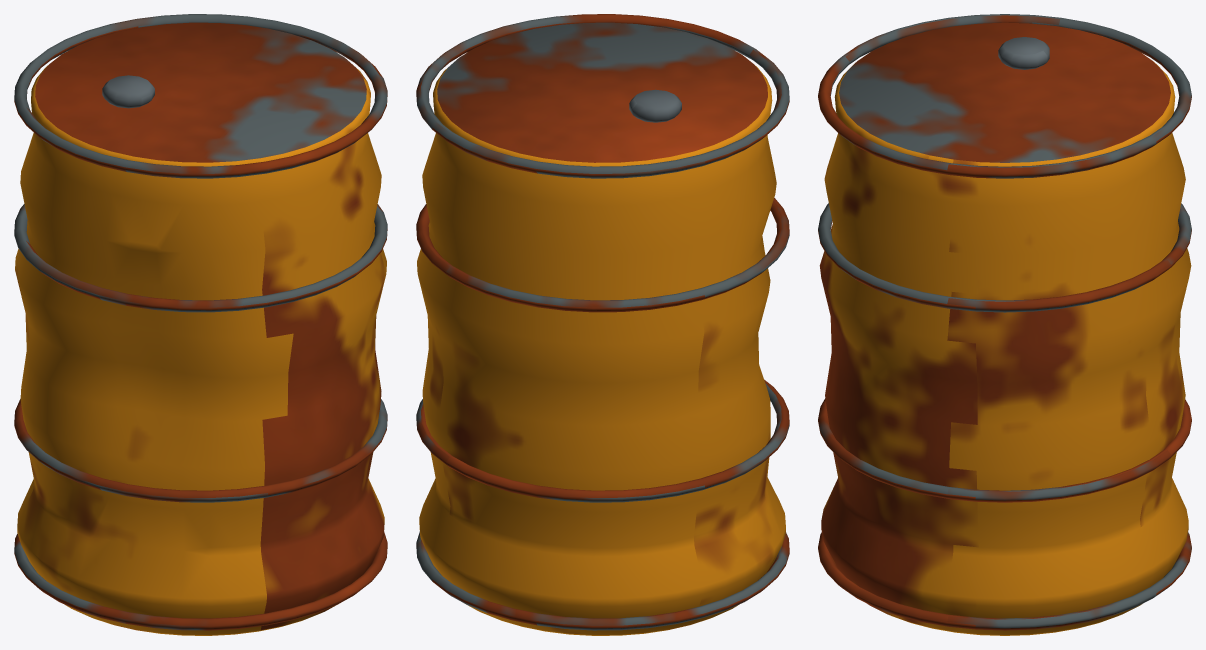
Rendered from drum-3.glb.
3 views of the same model, side by side, from view 1: azimuth 30°, elevation 25°; view 2: azimuth 150°, elevation 25°; view 3: azimuth 270°, elevation 25° (orthographic).
Parts seen in each view (by area): view 1: drum-3; view 2: drum-3; view 3: drum-3.
Boxes of the visible parts, x1,y1,x2,y2 form: drum-3: (14, 14, 387, 635); drum-3: (416, 14, 789, 635); drum-3: (818, 14, 1191, 635).
Bounding box in the file's own units: 0.57 × 0.8275 × 0.57.
Materials: 3 (3 with a texture image).
